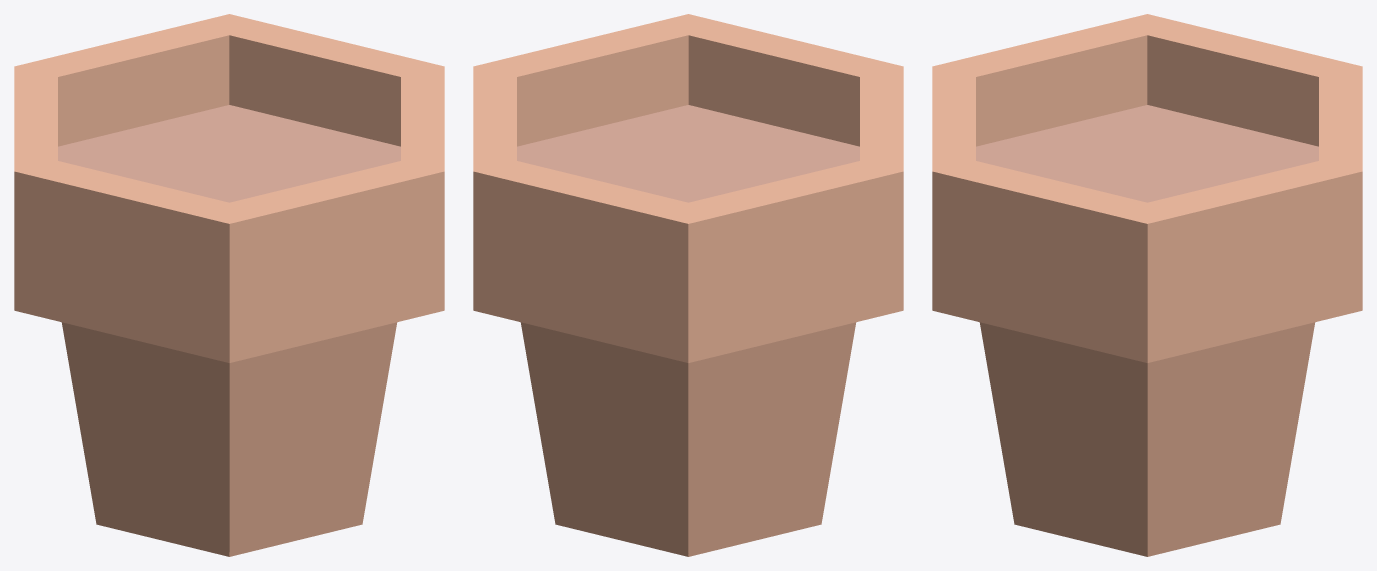
Rendered from pot-small.glb.
3 renders of one model, left to right at view 1: azimuth 30°, elevation 25°; view 2: azimuth 150°, elevation 25°; view 3: azimuth 270°, elevation 25°, orthographic.
Visible parts, largest first — view 1: pot_small; view 2: pot_small; view 3: pot_small.
Part boxes in pixels (x1=…): pot_small: x1=14, y1=14, x2=444, y2=556; pot_small: x1=473, y1=14, x2=903, y2=556; pot_small: x1=932, y1=14, x2=1362, y2=556.
Size of the model in its own units: 0.3234 by 0.268 by 0.2801.
